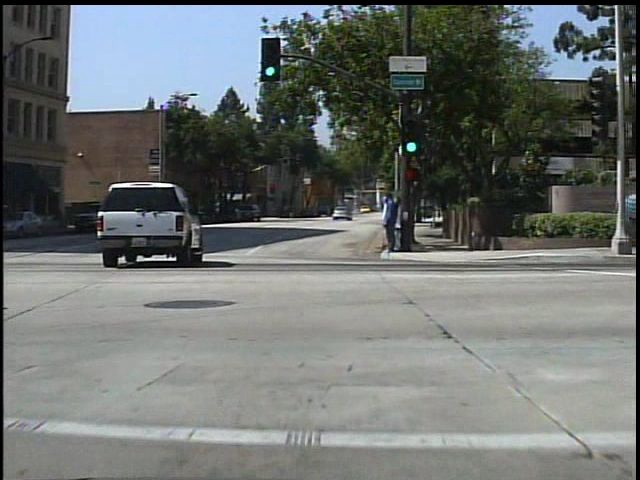person: (378, 188, 401, 255), (380, 194, 398, 252)
